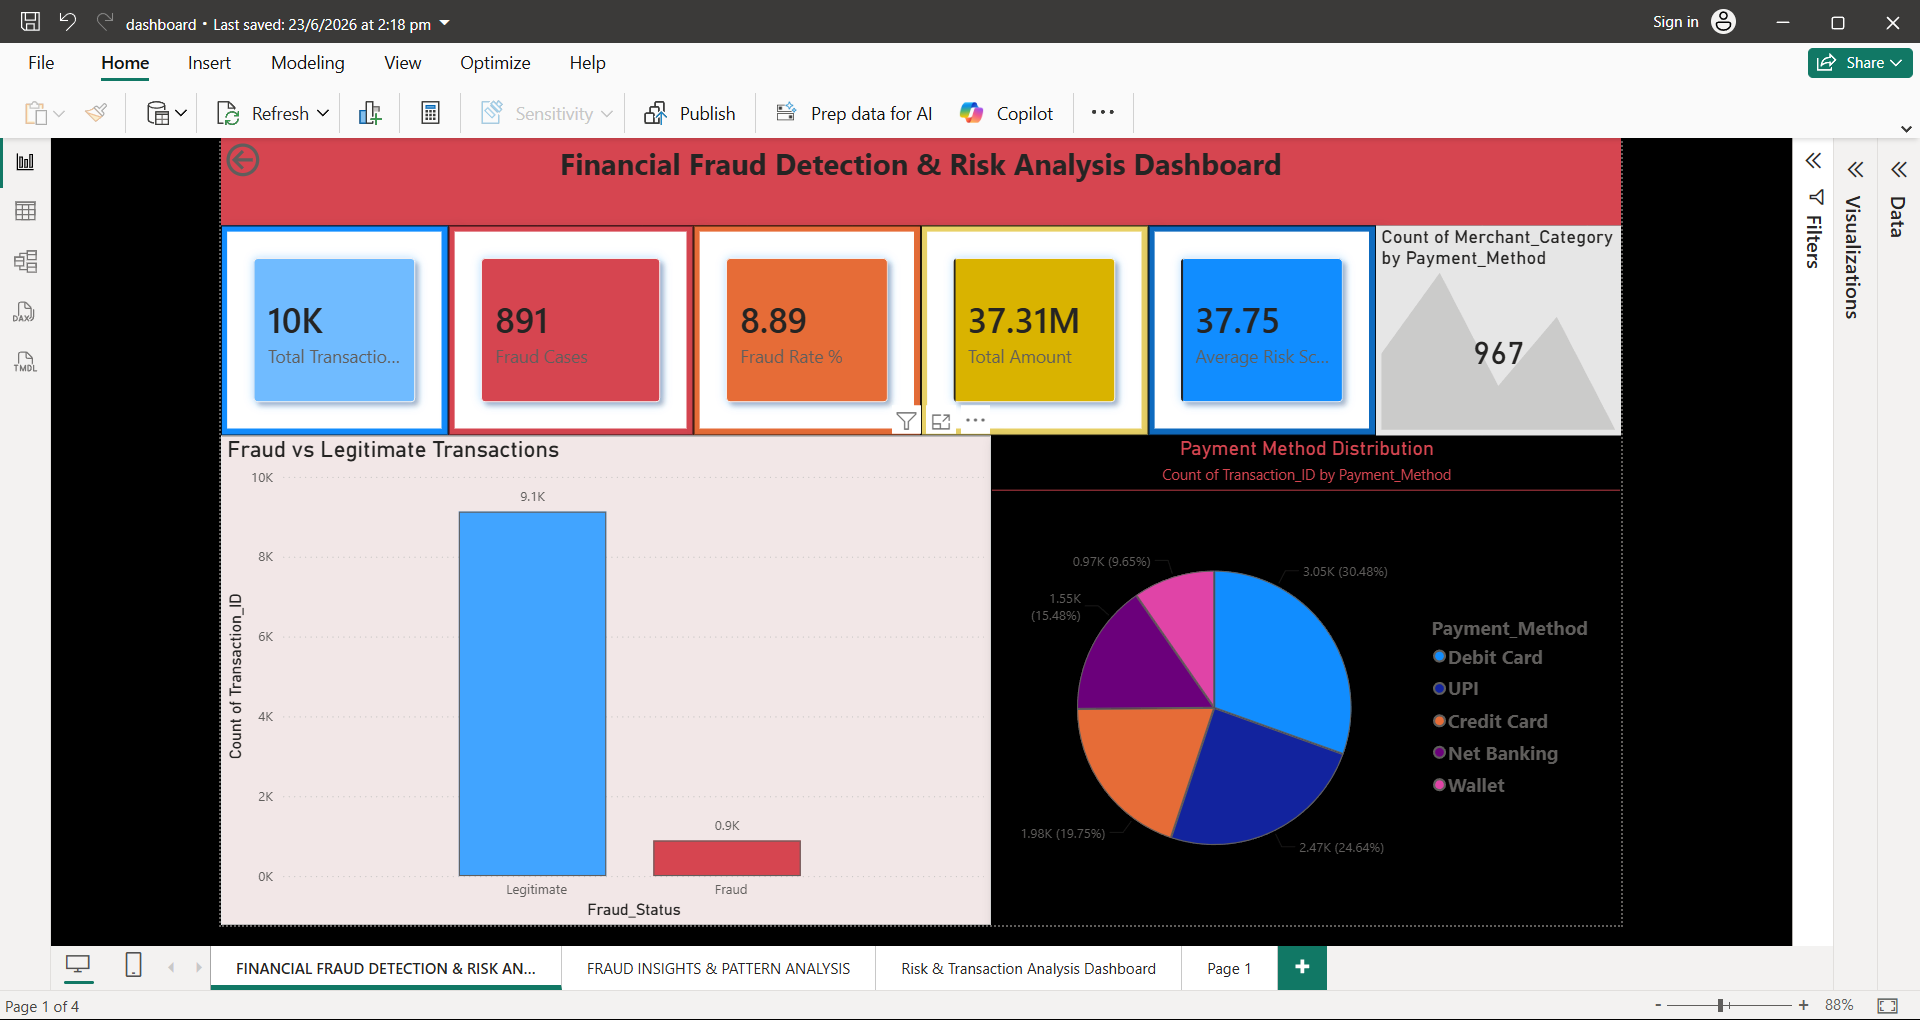

This screenshot's page, from the dashboard's own definition file:
{"tool":"powerbi","page":{"name":"FINANCIAL FRAUD DETECTION & RISK ANALYIS DASHBOARD","canvas":[1280,720],"ordinal":0},"visuals":[{"type":"textbox","box":[0,0,1280,80],"z":0},{"type":"cardVisual","fields":{"Data":["vw_FraudAnalysis.Total Transactions"]},"box":[0,80,208,192],"z":1000},{"type":"cardVisual","fields":{"Data":["vw_FraudAnalysis.Fraud Cases"]},"box":[208,80,224,192],"z":2000},{"type":"cardVisual","fields":{"Data":["vw_FraudAnalysis.Fraud Rate %"]},"box":[432,80,208,192],"z":3000},{"type":"cardVisual","fields":{"Data":["vw_FraudAnalysis.Total Amount"]},"box":[640,80,208,192],"z":4000},{"type":"cardVisual","fields":{"Data":["vw_FraudAnalysis.Average Risk Score"]},"box":[848,80,208,192],"z":5000},{"type":"clusteredColumnChart","title":"Fraud vs Legitimate Transactions","fields":{"Category":["vw_FraudAnalysis.Fraud_Status"],"Y":["CountNonNull(vw_FraudAnalysis.Transaction_ID)"]},"box":[0,272,704,448],"z":6000},{"type":"actionButton","box":[0,0,100,40],"z":7000},{"type":"pieChart","title":"Payment Method Distribution","fields":{"Category":["vw_FraudAnalysis.Payment_Method"],"Y":["CountNonNull(vw_FraudAnalysis.Transaction_ID)"]},"box":[704,272,576,448],"z":8000},{"type":"kpi","fields":{"Indicator":["CountNonNull(vw_FraudAnalysis.Merchant_Category)"],"TrendLine":["vw_FraudAnalysis.Payment_Method"]},"box":[1056,80,224,192],"z":9000}]}

Visuals, with their boxes on the page's 1280x720 design canvas (x1, y1, x2, y2). These are canvas units, not pixel positions in the 1920x1020 screenshot, which may show the page scaled, cropped or inside an application window:
textbox: box(0, 0, 1280, 80)
cardVisual - vw_FraudAnalysis.Total Transactions: box(0, 80, 208, 272)
cardVisual - vw_FraudAnalysis.Fraud Cases: box(208, 80, 432, 272)
cardVisual - vw_FraudAnalysis.Fraud Rate %: box(432, 80, 640, 272)
cardVisual - vw_FraudAnalysis.Total Amount: box(640, 80, 848, 272)
cardVisual - vw_FraudAnalysis.Average Risk Score: box(848, 80, 1056, 272)
"Fraud vs Legitimate Transactions" clusteredColumnChart: box(0, 272, 704, 720)
actionButton: box(0, 0, 100, 40)
"Payment Method Distribution" pieChart: box(704, 272, 1280, 720)
kpi - CountNonNull(vw_FraudAnalysis.Merchant_Category) x vw_FraudAnalysis.Payment_Method: box(1056, 80, 1280, 272)
